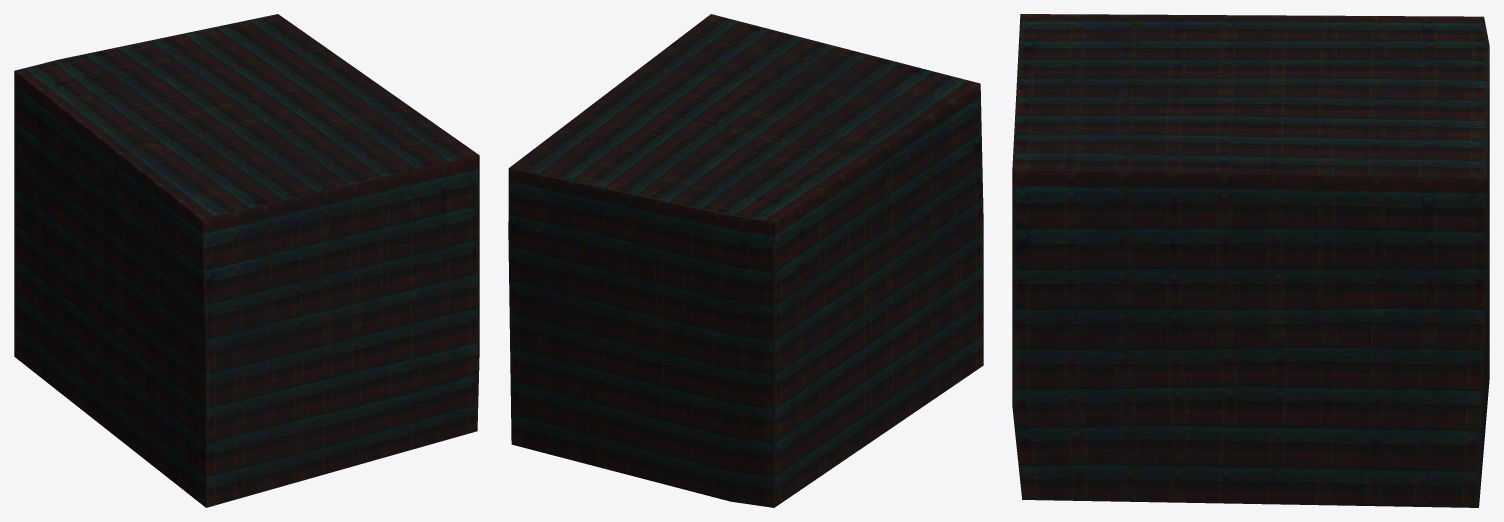
The model's file is Iron_Cage.fbx.
3 views of the same model, side by side, from view 1: azimuth 30°, elevation 25°; view 2: azimuth 150°, elevation 25°; view 3: azimuth 270°, elevation 25° (orthographic). The views are drawn at different scales.
Visible parts, largest first — view 1: Iron_Cage; view 2: Iron_Cage; view 3: Iron_Cage.
Boxes of the visible parts, box(x1,y1,x2,y2) form: Iron_Cage: box(14, 14, 479, 507); Iron_Cage: box(508, 14, 983, 507); Iron_Cage: box(1012, 14, 1489, 507).
Size of the model in its own units: 2.02 by 2.02 by 2.58.
